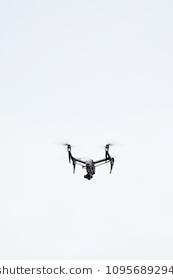drone: (48, 130, 127, 189)
